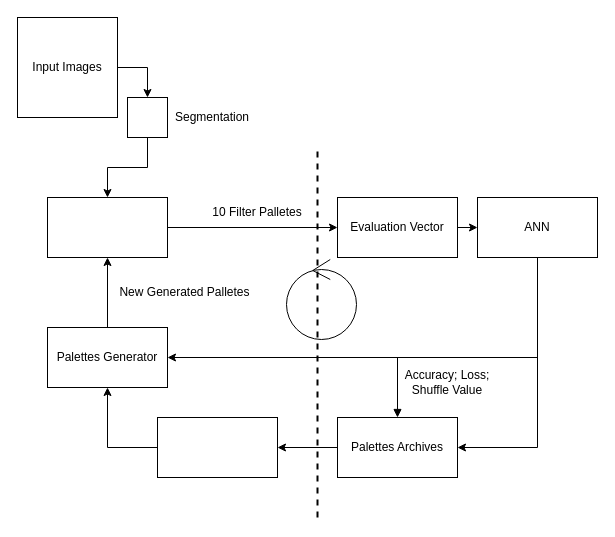
This 615x537 diagram has some shape labels left out. The shapes that lost their labels are listed below. From the top down, each one's centre as x and y in pixels, then its label:
At (107,227): "CNN".
At (217,447): "Palettes Selection".
